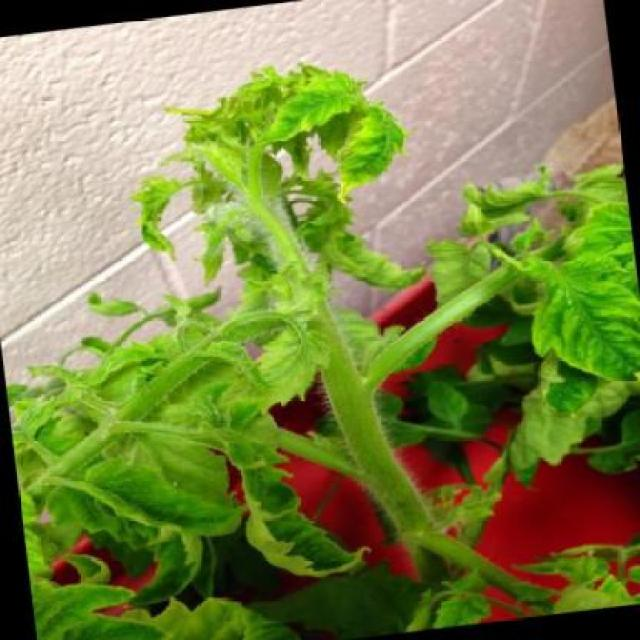Healthy Leaf: (216, 412, 369, 598), (60, 440, 240, 562), (313, 100, 422, 218), (242, 58, 362, 157), (219, 311, 333, 415)
